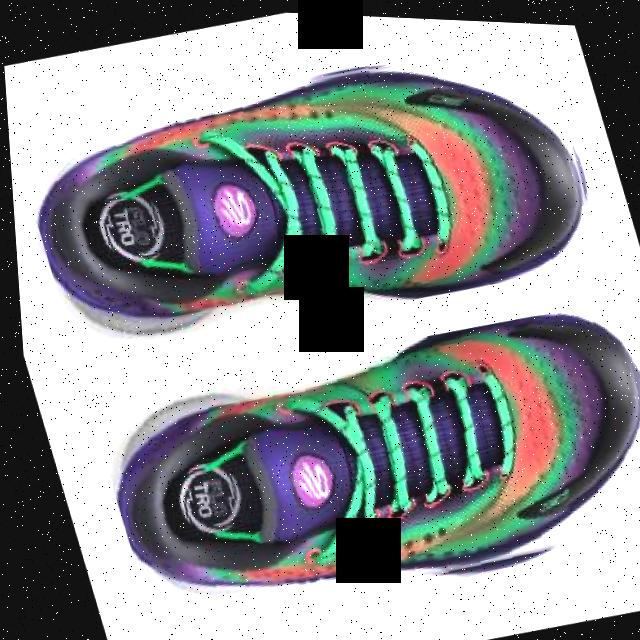shoe: (1, 5, 615, 381), (74, 274, 640, 640)
